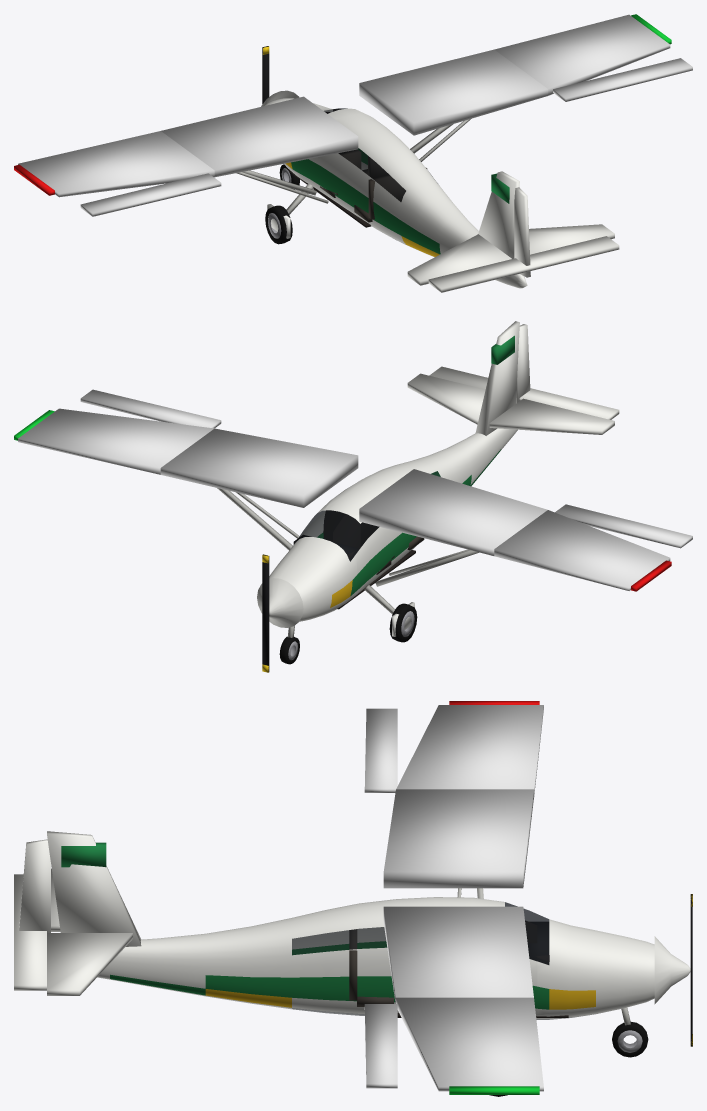
File: veh_avion_leger.glb
The picture shows the model from 3 angles, top to bottom: view 1: azimuth 30°, elevation 25°; view 2: azimuth 150°, elevation 25°; view 3: azimuth 270°, elevation 25°; orthographic projection. The views are drawn at different scales.
Parts seen in each view (by area): view 1: ailes, fuselage, empennage, gouverne_prof, aileron_G, aileron_D, interieur, gouverne_dir, porte_g0, roue_principal_G_mesh, pales; view 2: ailes, fuselage, empennage, porte_g0, aileron_G, aileron_D, gouverne_prof, capot, pales, gouverne_dir, roue_principal_G_mesh, interieur (+1 smaller); view 3: ailes, fuselage, empennage, aileron_D, aileron_G, gouverne_dir, gouverne_prof, interieur, capot, roue_avant_mesh, porte_d0.
Part boxes in pixels (<box>): ailes: <box>14,14,671,203</box>; fuselage: <box>265,98,527,288</box>; empennage: <box>407,171,614,285</box>; gouverne_prof: <box>428,236,619,292</box>; aileron_G: <box>80,173,221,216</box>; aileron_D: <box>553,58,692,101</box>; interieur: <box>289,150,427,227</box>; gouverne_dir: <box>514,187,530,277</box>; porte_g0: <box>295,112,329,196</box>; roue_principal_G_mesh: <box>265,205,292,244</box>; pales: <box>262,46,269,103</box>; ailes: <box>14,408,671,591</box>; fuselage: <box>269,428,517,621</box>; empennage: <box>407,321,614,435</box>; porte_g0: <box>333,515,384,596</box>; aileron_G: <box>555,504,692,548</box>; aileron_D: <box>80,389,221,428</box>; gouverne_prof: <box>429,366,619,419</box>; capot: <box>257,578,303,627</box>; pales: <box>262,554,269,672</box>; gouverne_dir: <box>516,324,530,403</box>; roue_principal_G_mesh: <box>389,603,417,642</box>; interieur: <box>293,535,424,609</box>; ailes: <box>383,701,543,1094</box>; fuselage: <box>97,897,659,1019</box>; empennage: <box>47,831,141,995</box>; aileron_D: <box>364,1004,397,1088</box>; aileron_G: <box>364,708,397,792</box>; gouverne_dir: <box>19,839,50,932</box>; gouverne_prof: <box>14,874,46,990</box>; interieur: <box>349,921,568,1017</box>; capot: <box>654,936,690,1004</box>; roue_avant_mesh: <box>612,1022,648,1057</box>; porte_d0: <box>525,920,537,1014</box>.
Size of the model in its own units: 11.2 by 3 by 8.27.
